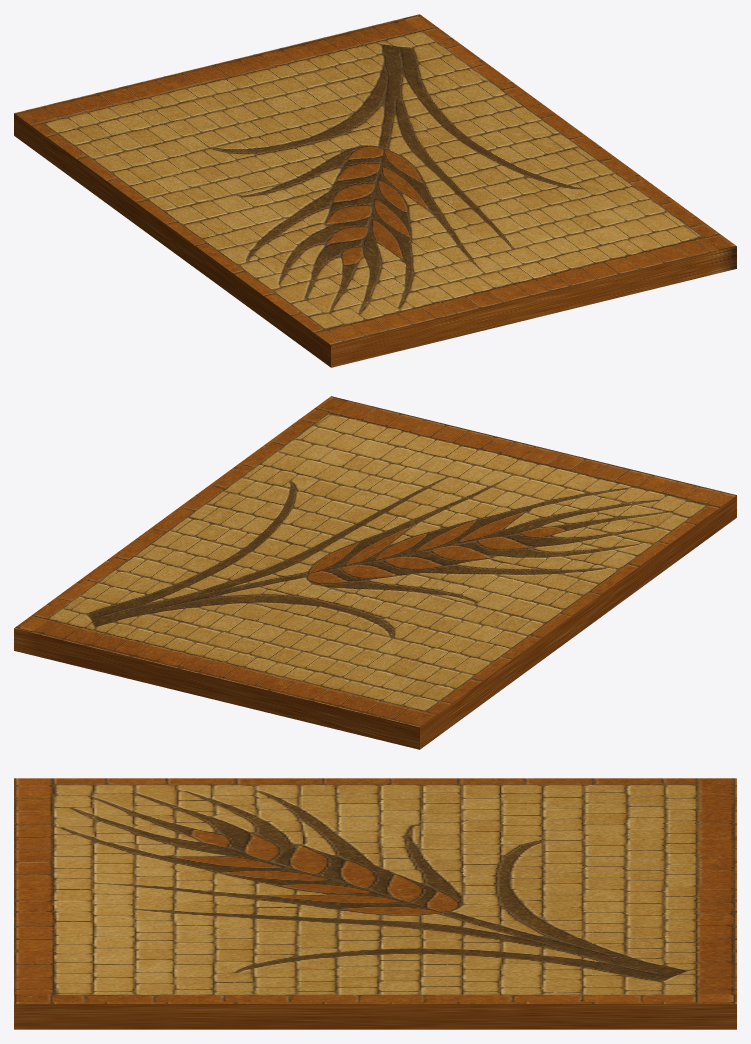
The model's file is wheeeeatMosaic.fbx.
3 views of the same model, one above another, from view 1: azimuth 30°, elevation 25°; view 2: azimuth 150°, elevation 25°; view 3: azimuth 270°, elevation 25° (orthographic). The views are drawn at different scales.
Visible parts, largest first — view 1: Cube.022, Cube.017, Cube.002, Cube.016, Cube.007, Cube.026, Cube.024, Cube.023, Cube.025, Cube.019, Cube.004, Cube.006 (+13 smaller); view 2: Cube.026, Cube.021, Cube.006, Cube.012, Cube.011, Cube.022, Cube.024, Cube.025, Cube.023, Cube.019, Cube.002, Cube.004 (+13 smaller); view 3: Cube.003, Cube.005, Cube.002, Cube.004, Cube.006, Cube.018, Cube.020, Cube.008, Cube.010, Cube.013, Cube.015, Cube.023 (+13 smaller).
Boxes of the visible parts, x1,y1,x2,y2 form: Cube.022: (267,279,412,367); Cube.017: (349,259,493,347); Cube.002: (593,200,736,288); Cube.016: (430,239,574,327); Cube.007: (511,219,655,308); Cube.026: (14,93,158,181); Cube.024: (141,186,284,274); Cube.023: (204,232,348,320); Cube.025: (77,140,221,228); Cube.019: (222,166,366,232); Cube.004: (466,107,609,172); Cube.006: (339,14,482,80); Cube.026: (338,661,483,749); Cube.021: (257,641,401,729); Cube.006: (14,582,157,670); Cube.012: (176,621,320,709); Cube.011: (95,601,239,690); Cube.022: (592,475,736,563); Cube.024: (466,568,609,656); Cube.025: (402,614,546,702); Cube.023: (529,522,673,610); Cube.019: (384,548,528,614); Cube.002: (268,396,411,462); Cube.004: (141,489,284,554); Cube.003: (158,959,303,1029); Cube.005: (447,959,592,1029); Cube.002: (14,959,158,1029); Cube.004: (303,959,447,1029); Cube.006: (592,959,736,1029); Cube.018: (158,823,303,868); Cube.020: (447,823,592,868); Cube.008: (158,913,303,958); Cube.010: (447,913,592,958); Cube.013: (447,868,592,913); Cube.015: (158,868,303,913); Cube.023: (158,778,303,823).
Size of the model in its own units: 370 by 19.62 by 501.
